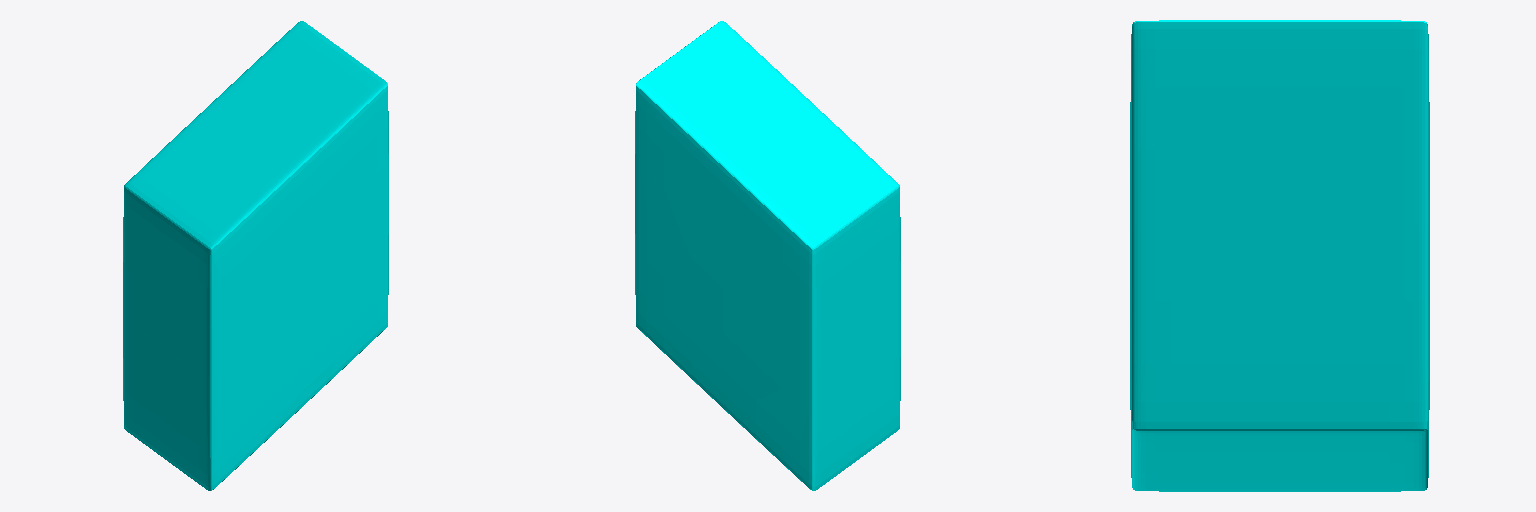
The robot description file, URDF, robot "p6.urdf":
<?xml version="0.0" ?>
<robot name="p6.urdf">
  <link name="baseLink">
    <contact>
      <lateral_friction value="1.0"/>
  <!--     <rolling_friction value="0.0"/>
      <spinning_friction value="0.01">
      <inertia_scaling value="3.0"/>
      <contact_cfm value="0.0"/>
      <contact_erp value="1.0"/> -->
    </contact>
    <inertial>
      <origin rpy="0 0 0" xyz="0 0 0"/>
       <mass value=".09"/>
       <inertia ixx="1" ixy="0" ixz="0" iyy="1" iyz="0" izz="1"/>
    </inertial>
    <visual>
      <origin rpy="0 0 0" xyz="0 0 0"/>
        <geometry>
      <mesh filename="P6.obj" scale=".06 .06 .06"/>
        </geometry>
        <material name="cyan">
          <color rgba="0 1 1 1"/>
        </material>
    </visual>
    <collision>
        <origin rpy="0 0 0" xyz="0 0 0"/>
        <geometry>
          <mesh filename="P6.obj" scale=".06 .06 .06"/>
        </geometry>
    </collision>
  </link>
</robot>

--- Render facts (derived) ---
Views: 3 orthographic renders of the robot side by side, from view 1: azimuth 30°, elevation 25°; view 2: azimuth 150°, elevation 25°; view 3: azimuth 270°, elevation 25°.
Model p6.urdf with 1 links and 0 joints (none), rooted at baseLink, posed all joints at 0.
Links seen in each view (by area): view 1: baseLink; view 2: baseLink; view 3: baseLink.
Link boxes in pixels (bbox=[...]): baseLink: bbox=[123, 21, 388, 490]; baseLink: bbox=[635, 21, 900, 490]; baseLink: bbox=[1130, 20, 1429, 491].
Size in the robot's own frame: 0.1418 by 0.1214 by 0.2756 metres.
1 mesh visuals loaded from 1 distinct referenced files (1 OBJ).